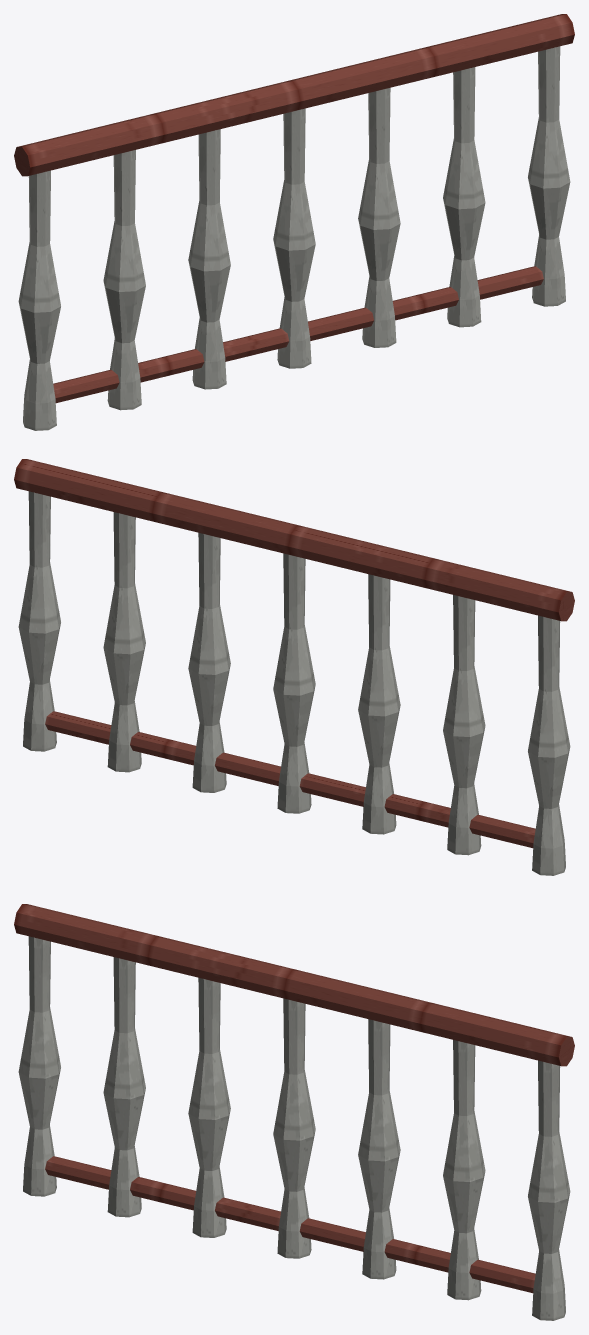
The model's file is MD_19_Balustrade.fbx.
The picture shows the model from 3 angles, top to bottom: view 1: azimuth 30°, elevation 25°; view 2: azimuth 150°, elevation 25°; view 3: azimuth 330°, elevation 25°; orthographic projection.
Parts seen in each view (by area): view 1: MD_19_Balustrade_handrail, MD_19_Balustrade_lower_rail, MD_19_Balustrade_baluster, MD_19_Balustrade_baluster.003, MD_19_Balustrade_baluster.005, MD_19_Balustrade_baluster.006, MD_19_Balustrade_baluster.004, MD_19_Balustrade_baluster.002, MD_19_Balustrade_baluster.001; view 2: MD_19_Balustrade_handrail, MD_19_Balustrade_lower_rail, MD_19_Balustrade_baluster, MD_19_Balustrade_baluster.003, MD_19_Balustrade_baluster.005, MD_19_Balustrade_baluster.006, MD_19_Balustrade_baluster.004, MD_19_Balustrade_baluster.002, MD_19_Balustrade_baluster.001; view 3: MD_19_Balustrade_handrail, MD_19_Balustrade_lower_rail, MD_19_Balustrade_baluster.006, MD_19_Balustrade_baluster, MD_19_Balustrade_baluster.001, MD_19_Balustrade_baluster.003, MD_19_Balustrade_baluster.002, MD_19_Balustrade_baluster.004, MD_19_Balustrade_baluster.005.
Part boxes in pixels (left/top/right/bottom): MD_19_Balustrade_handrail: left=14, top=14, right=574, bottom=176; MD_19_Balustrade_lower_rail: left=53, top=266, right=543, bottom=403; MD_19_Balustrade_baluster: left=18, top=170, right=60, bottom=430; MD_19_Balustrade_baluster.003: left=273, top=108, right=315, bottom=368; MD_19_Balustrade_baluster.005: left=443, top=67, right=485, bottom=327; MD_19_Balustrade_baluster.006: left=528, top=46, right=570, bottom=306; MD_19_Balustrade_baluster.004: left=358, top=87, right=400, bottom=347; MD_19_Balustrade_baluster.002: left=188, top=129, right=230, bottom=389; MD_19_Balustrade_baluster.001: left=103, top=150, right=145, bottom=410; MD_19_Balustrade_handrail: left=14, top=459, right=574, bottom=621; MD_19_Balustrade_lower_rail: left=45, top=711, right=535, bottom=848; MD_19_Balustrade_baluster: left=528, top=615, right=570, bottom=875; MD_19_Balustrade_baluster.003: left=273, top=553, right=315, bottom=813; MD_19_Balustrade_baluster.005: left=103, top=512, right=145, bottom=772; MD_19_Balustrade_baluster.006: left=18, top=491, right=60, bottom=751; MD_19_Balustrade_baluster.004: left=188, top=532, right=230, bottom=792; MD_19_Balustrade_baluster.002: left=358, top=574, right=400, bottom=834; MD_19_Balustrade_baluster.001: left=443, top=595, right=485, bottom=855; MD_19_Balustrade_handrail: left=14, top=904, right=574, bottom=1066; MD_19_Balustrade_lower_rail: left=45, top=1156, right=535, bottom=1293; MD_19_Balustrade_baluster.006: left=528, top=1060, right=570, bottom=1320; MD_19_Balustrade_baluster: left=18, top=936, right=60, bottom=1196; MD_19_Balustrade_baluster.001: left=103, top=957, right=145, bottom=1217; MD_19_Balustrade_baluster.003: left=273, top=998, right=315, bottom=1258; MD_19_Balustrade_baluster.002: left=188, top=977, right=230, bottom=1237; MD_19_Balustrade_baluster.004: left=358, top=1019, right=400, bottom=1279; MD_19_Balustrade_baluster.005: left=443, top=1040, right=485, bottom=1300.
Bounding box in the file's own units: 2.15 × 1.06 × 0.15.
Materials: 2 (2 with a texture image).
